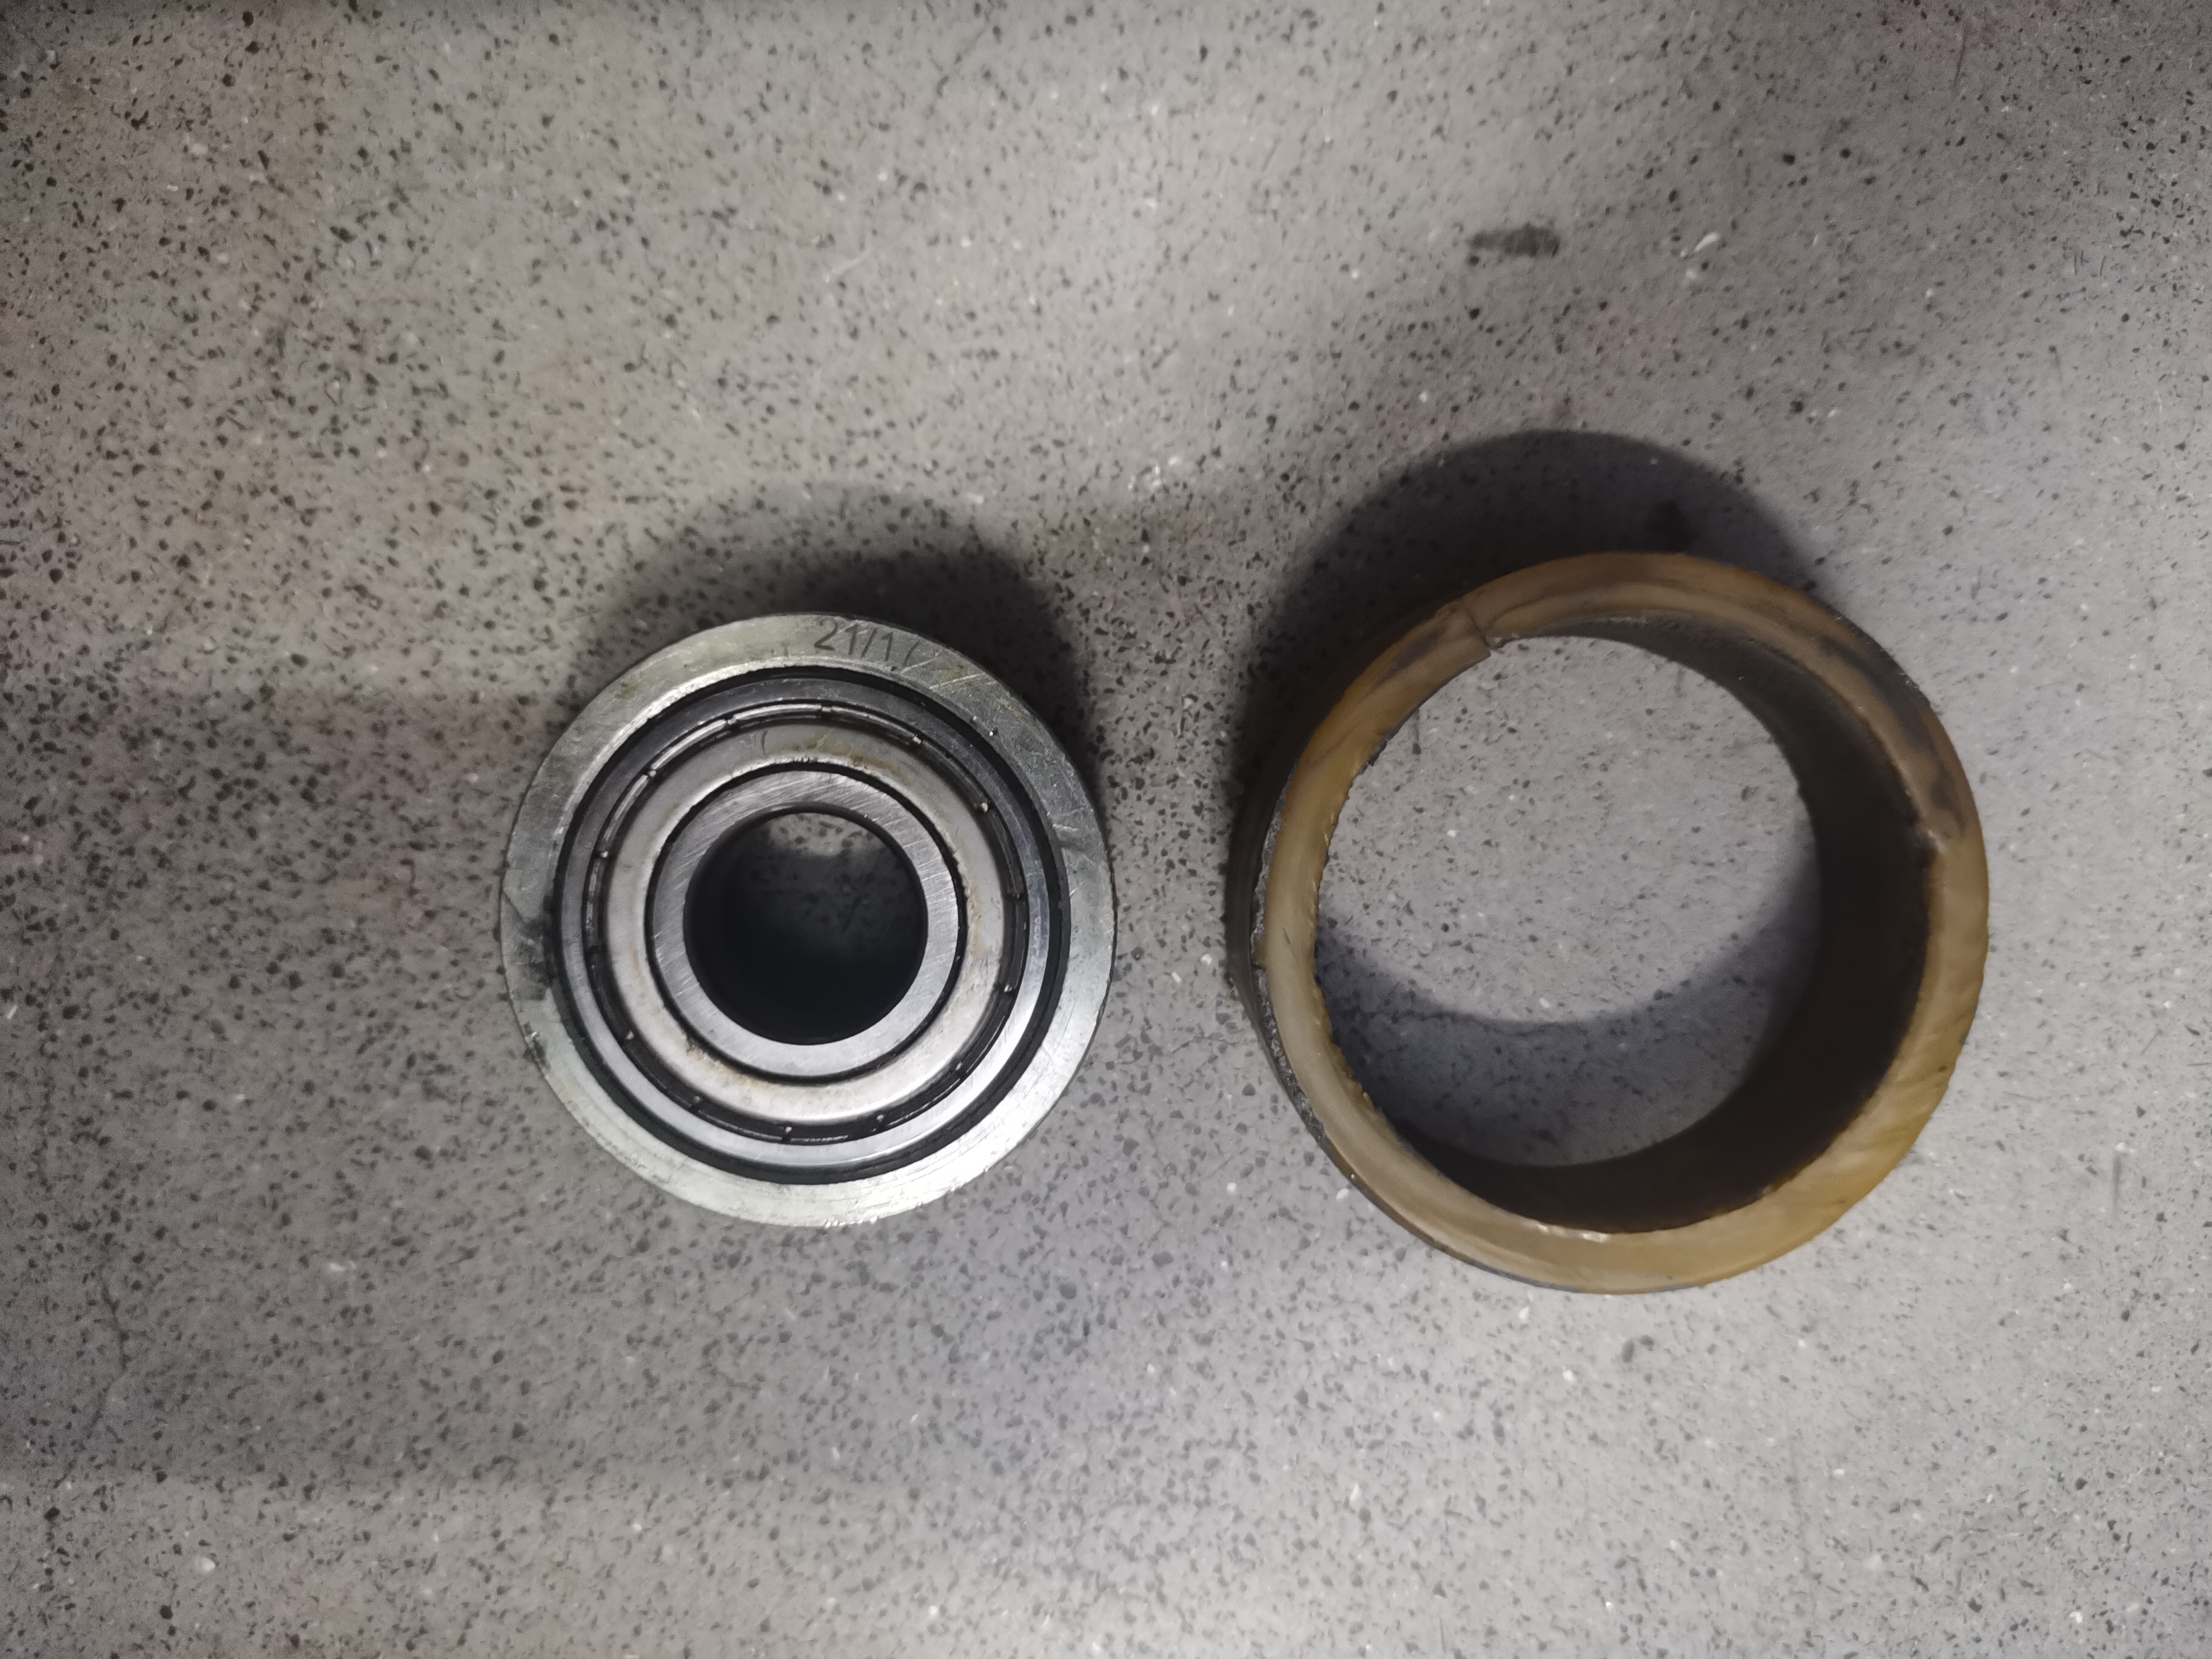bad_wheel: (1251, 566, 2034, 1312), (474, 589, 1122, 1234)
